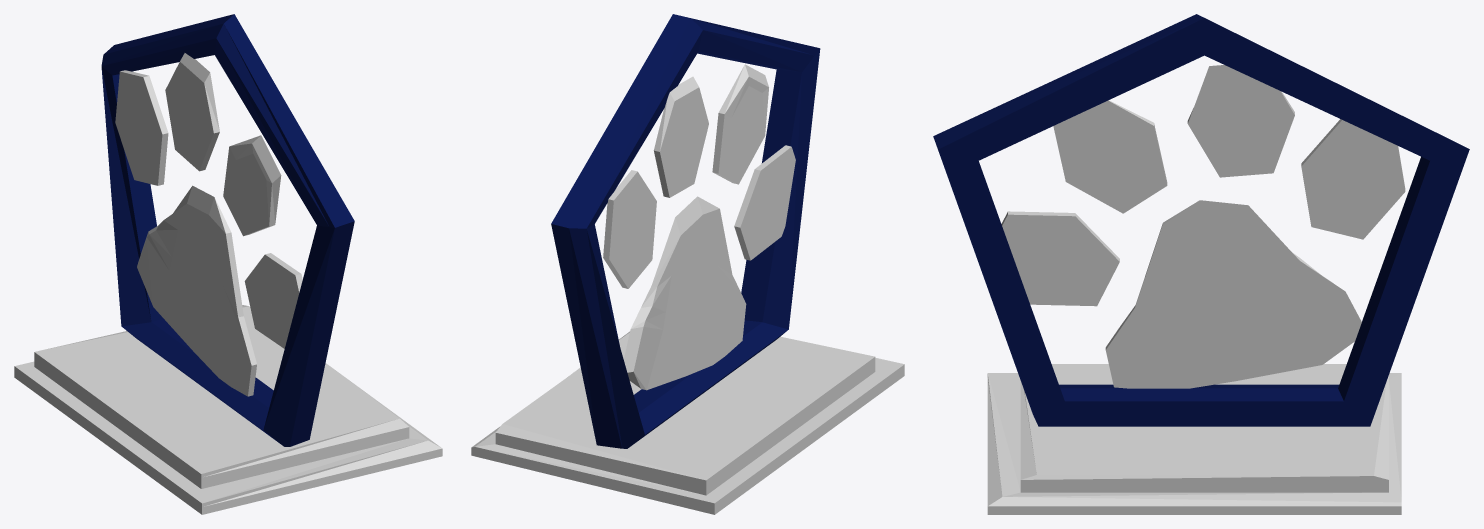
The model's file is silverPawblue.FBX.
3 renders of one model, left to right at view 1: azimuth 30°, elevation 25°; view 2: azimuth 150°, elevation 25°; view 3: azimuth 270°, elevation 25°, orthographic. The views are drawn at different scales.
Parts seen in each view (by area): view 1: Box223; view 2: Box223; view 3: Box223.
Boxes of the visible parts, bbox=[...] form: Box223: bbox=[14, 14, 442, 514]; Box223: bbox=[471, 14, 904, 514]; Box223: bbox=[933, 14, 1469, 514].
Bounding box in the file's own units: 7.97 × 12.58 × 13.97.
